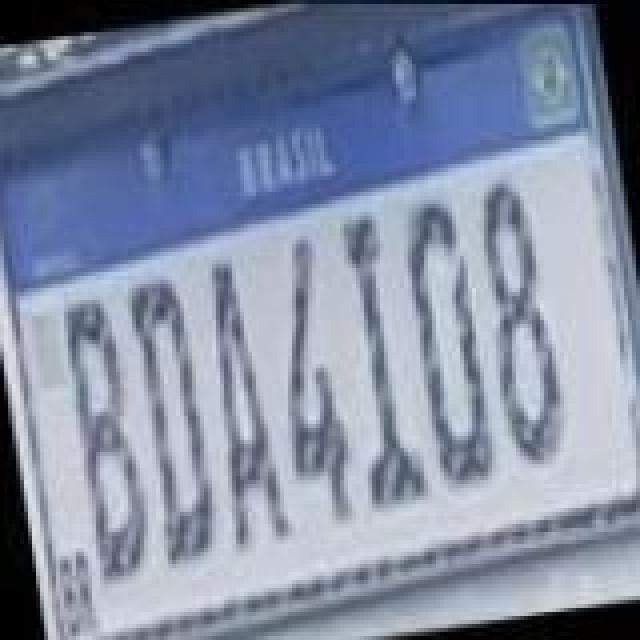4: (252, 230, 356, 526)
8: (466, 176, 574, 472)
A: (190, 252, 294, 556)
B: (56, 292, 156, 580)
D: (394, 192, 502, 496), (120, 270, 220, 566)
I: (322, 208, 430, 516)
